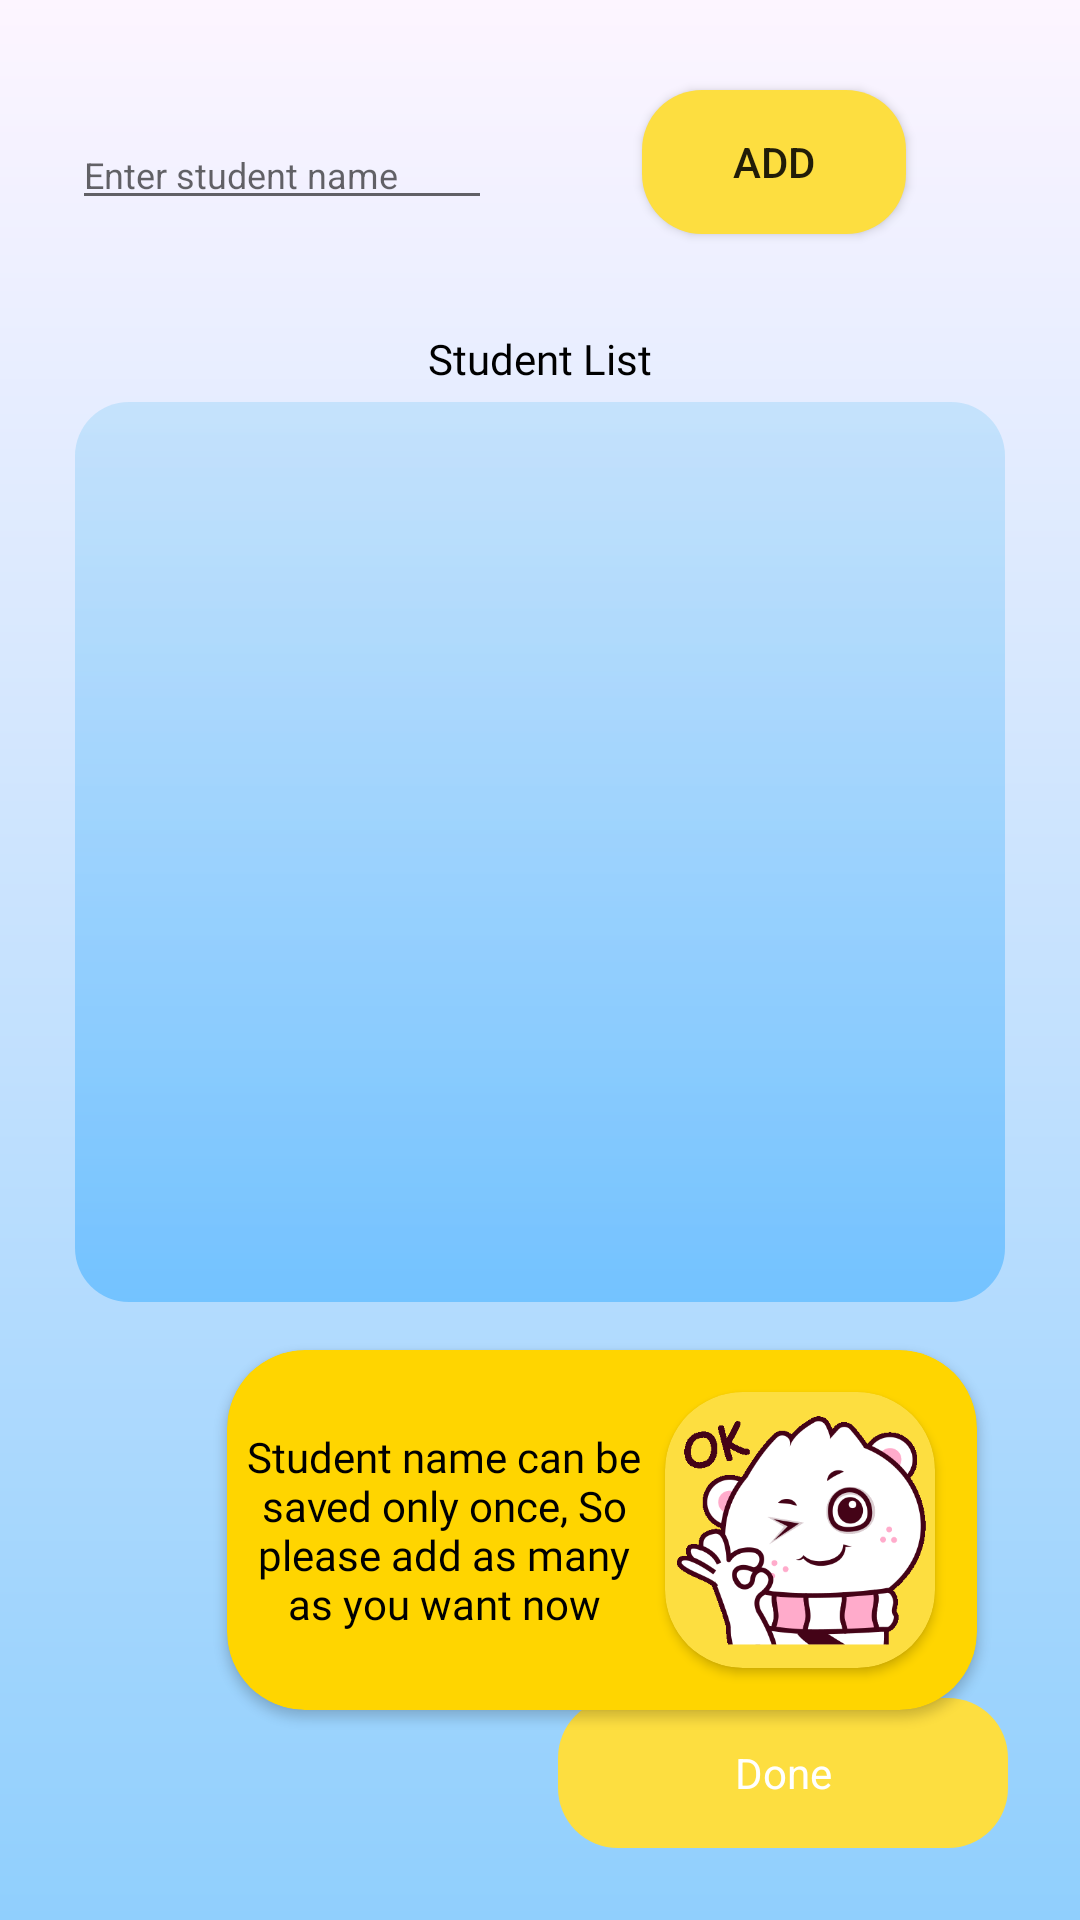

Icons on this 1080×1920 Android screen, each with the point to tap as point (x, y):
dumpling food: point (800, 1530)
